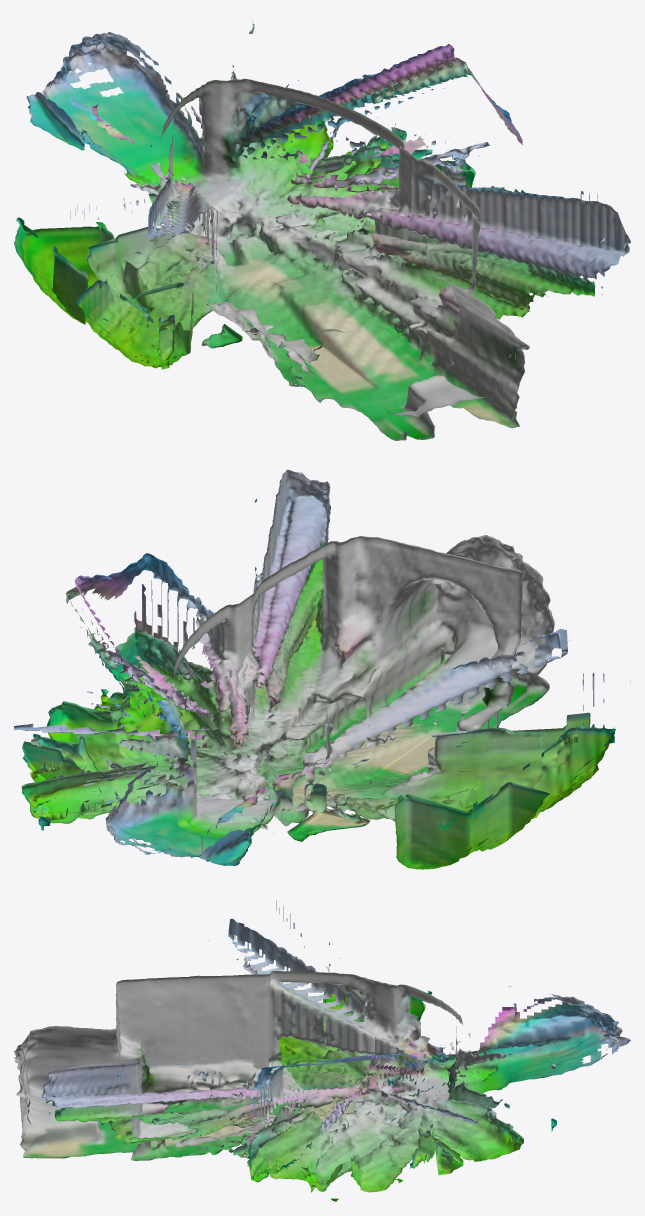
File: frutiger-rainbow-cafe-1-1-pano_collider.glb
3 views of the same model, one above another, from view 1: azimuth 30°, elevation 25°; view 2: azimuth 150°, elevation 25°; view 3: azimuth 270°, elevation 25° (orthographic). The views are drawn at different scales.
Visible parts, largest first — view 1: world; view 2: world; view 3: world.
Part boxes in pixels (left/top/right/bottom): world: left=14, top=14, right=630, bottom=440; world: left=14, top=469, right=630, bottom=869; world: left=14, top=900, right=630, bottom=1201.
Size of the model in its own units: 10.54 by 4.28 by 15.18.
